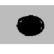correct: (16, 15, 46, 38)
